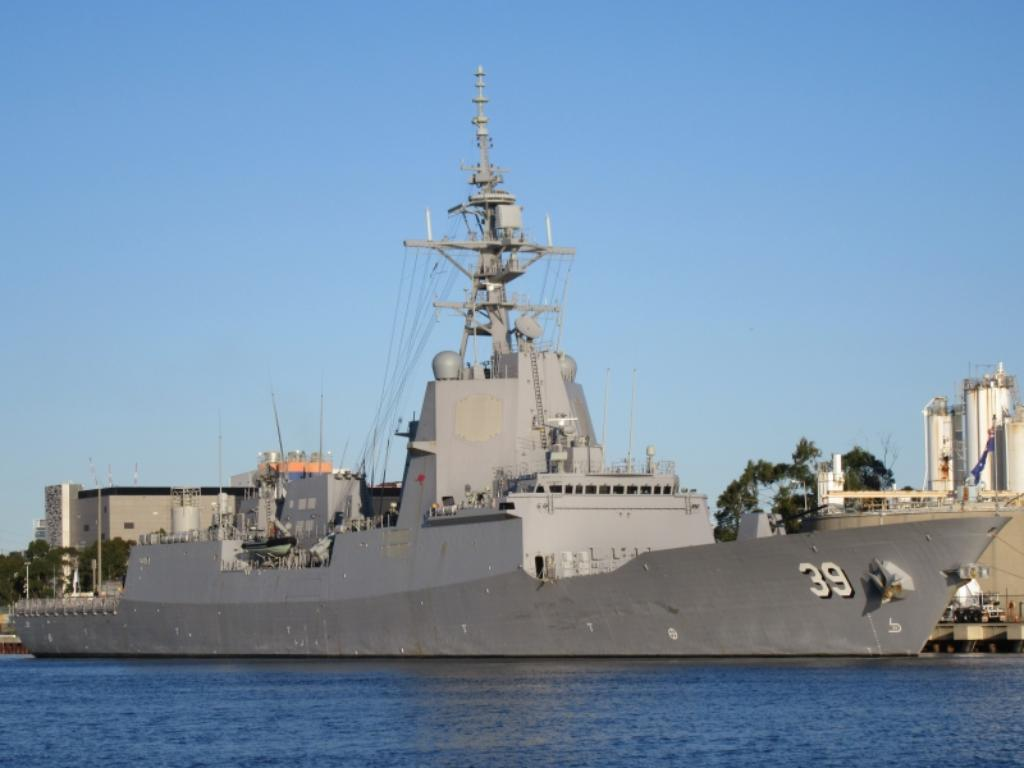Warship: (12, 51, 1024, 662)
